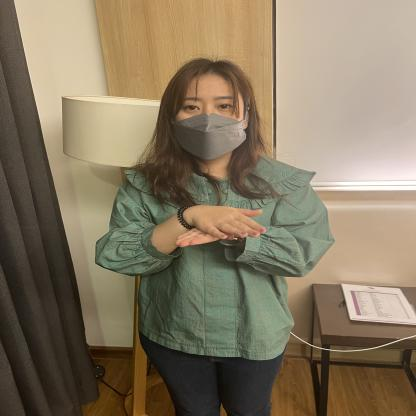Love: (64, 167, 344, 313)
